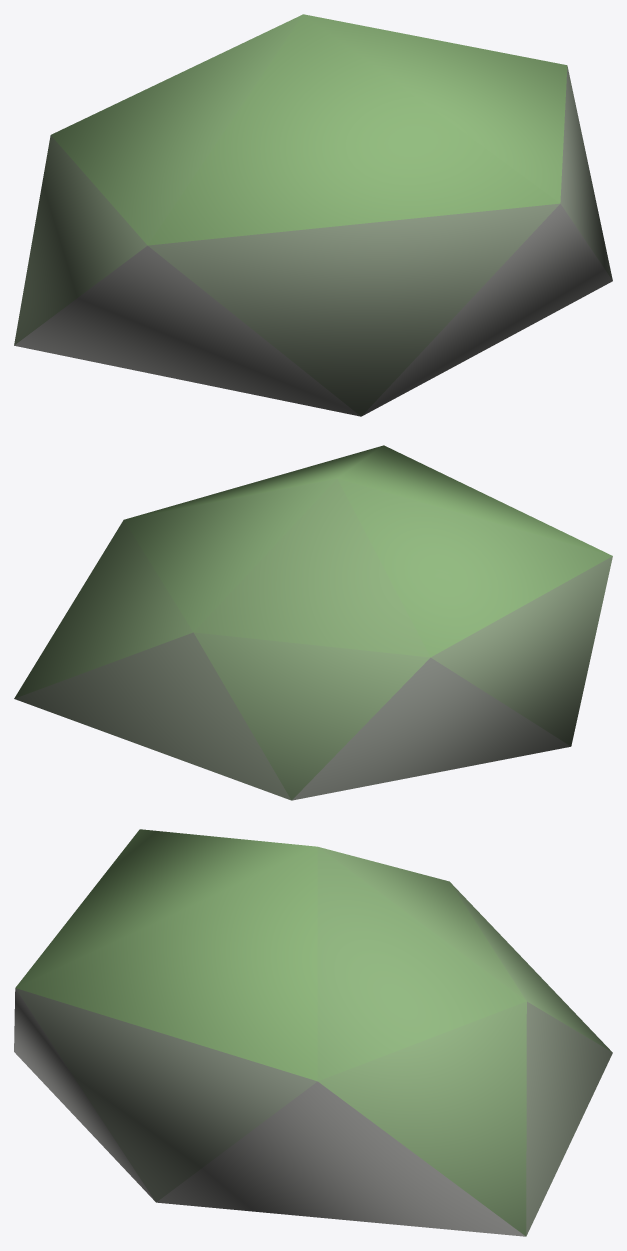
Rendered from rock_d.glb.
3 renders of one model, top to bottom at view 1: azimuth 30°, elevation 25°; view 2: azimuth 150°, elevation 25°; view 3: azimuth 270°, elevation 25°, orthographic. The views are drawn at different scales.
Visible parts, largest first — view 1: rock_d; view 2: rock_d; view 3: rock_d.
Part boxes in pixels (x1=…): rock_d: x1=14, y1=14, x2=612, y2=416; rock_d: x1=14, y1=445, x2=612, y2=800; rock_d: x1=14, y1=829, x2=612, y2=1236.
Bounding box in the file's own units: 0.8059 × 0.363 × 0.7496.
